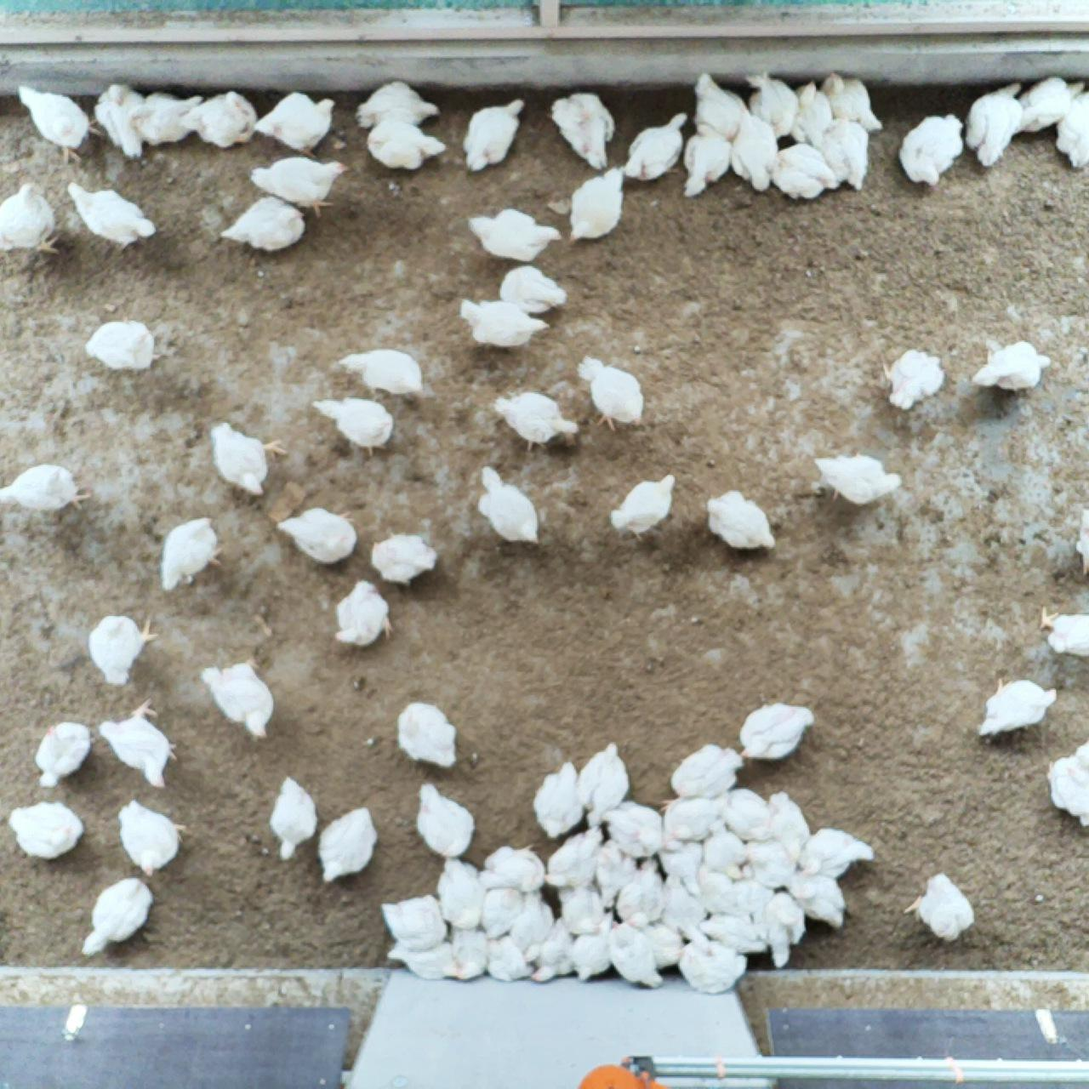chicken: (97, 697, 182, 793), (16, 84, 104, 165), (198, 653, 274, 743), (249, 155, 351, 219), (208, 418, 289, 497), (66, 180, 157, 250), (250, 89, 339, 160), (80, 878, 156, 961), (542, 89, 617, 170), (115, 797, 189, 877), (573, 352, 647, 432), (964, 79, 1028, 171), (975, 674, 1059, 744), (902, 870, 978, 947), (493, 387, 580, 454), (466, 205, 563, 264), (476, 462, 543, 547), (88, 610, 162, 686), (274, 503, 361, 567), (896, 111, 965, 191), (0, 462, 93, 521), (156, 515, 225, 594), (309, 395, 396, 456), (458, 296, 551, 353), (460, 96, 527, 175), (178, 89, 261, 151), (608, 469, 677, 543), (0, 178, 63, 259), (317, 805, 380, 886), (812, 451, 903, 507), (7, 799, 86, 863), (736, 699, 815, 763), (416, 778, 478, 859), (83, 315, 162, 378), (624, 110, 691, 184), (567, 164, 628, 245), (393, 698, 461, 770), (220, 196, 307, 252), (969, 337, 1053, 395), (331, 575, 395, 651), (706, 486, 778, 553), (576, 741, 632, 827), (31, 718, 97, 789), (353, 77, 439, 131), (127, 90, 204, 150), (268, 773, 320, 861), (337, 347, 426, 398), (660, 876, 716, 957), (1042, 733, 1089, 829), (672, 943, 753, 998), (729, 106, 779, 195), (606, 917, 666, 991), (366, 119, 449, 172), (769, 140, 838, 203), (534, 758, 586, 841), (818, 115, 874, 192), (680, 120, 733, 201), (880, 348, 948, 411), (94, 83, 147, 163), (543, 824, 605, 892), (1017, 74, 1086, 135), (599, 800, 669, 860), (798, 827, 880, 878), (688, 70, 750, 137), (379, 892, 449, 951), (368, 528, 439, 586), (820, 71, 886, 133), (670, 741, 744, 796), (741, 70, 798, 141), (659, 788, 731, 844), (436, 857, 489, 932), (758, 891, 808, 969), (785, 872, 846, 932), (497, 267, 570, 317), (629, 911, 686, 972), (765, 790, 813, 862), (479, 843, 548, 893), (572, 908, 615, 986), (615, 858, 666, 921), (387, 938, 460, 981), (741, 837, 797, 892), (790, 79, 836, 145), (702, 820, 751, 881), (715, 783, 769, 837), (555, 882, 607, 938), (697, 914, 768, 955), (1037, 604, 1089, 659), (509, 892, 555, 954), (595, 839, 636, 907), (1055, 88, 1089, 168), (524, 915, 575, 964), (661, 841, 705, 897), (487, 936, 538, 984), (448, 927, 490, 983), (481, 887, 523, 939), (529, 959, 580, 984)
